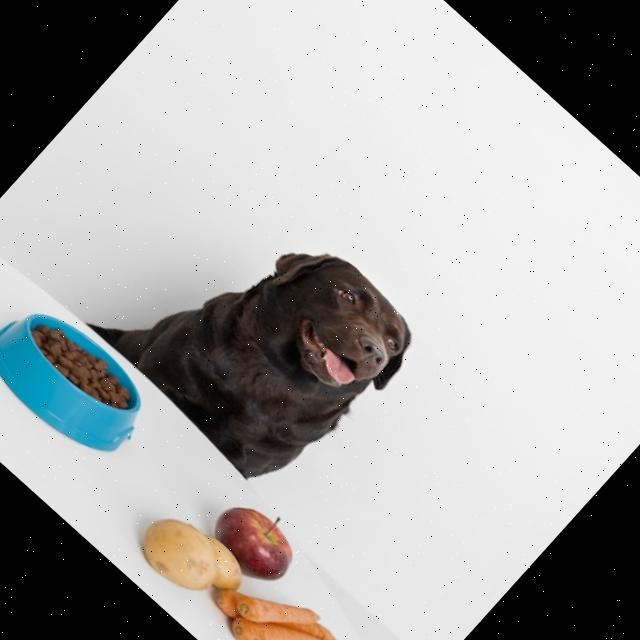Dog: (79, 158, 432, 508)
